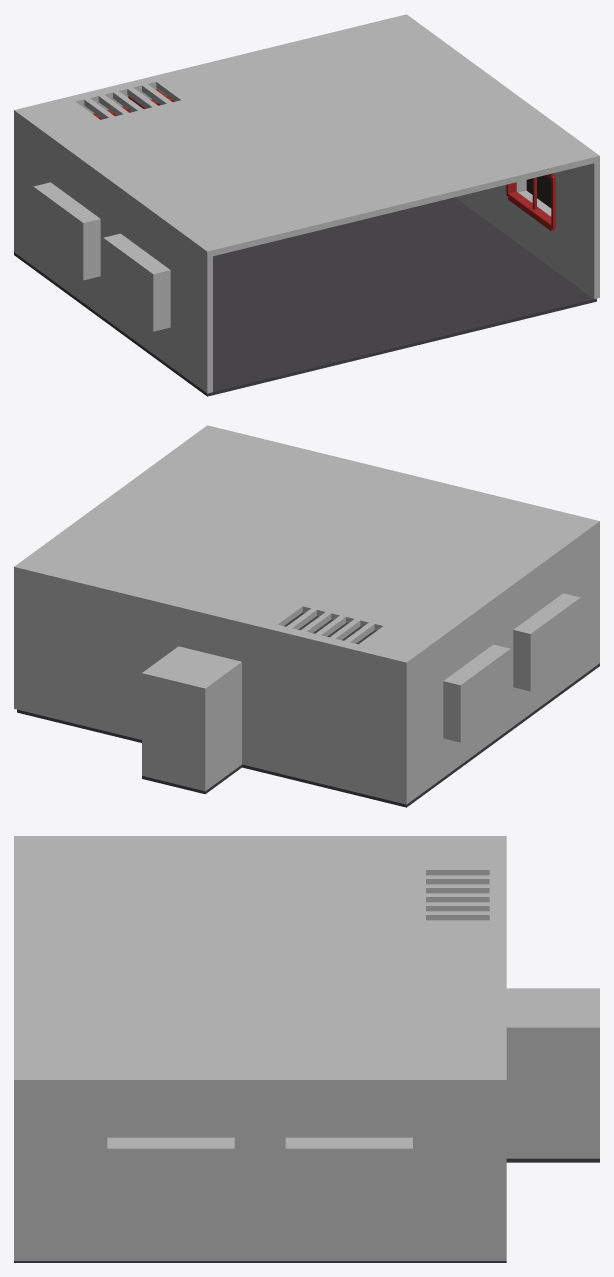
File: classroom_nm.fbx
3 views of the same model, one above another, from view 1: azimuth 30°, elevation 25°; view 2: azimuth 150°, elevation 25°; view 3: azimuth 270°, elevation 25° (orthographic). The views are drawn at different scales.
Parts seen in each view (by area): view 1: 多边形; view 2: 多边形; view 3: 多边形.
Part boxes in pixels (box(x1,y1,x2,y2)): 多边形: box(14, 14, 599, 396); 多边形: box(14, 425, 599, 807); 多边形: box(14, 836, 599, 1262).
Size of the model in its own units: 14.8 by 4.8 by 13.8.
1 material, 1 textured.
